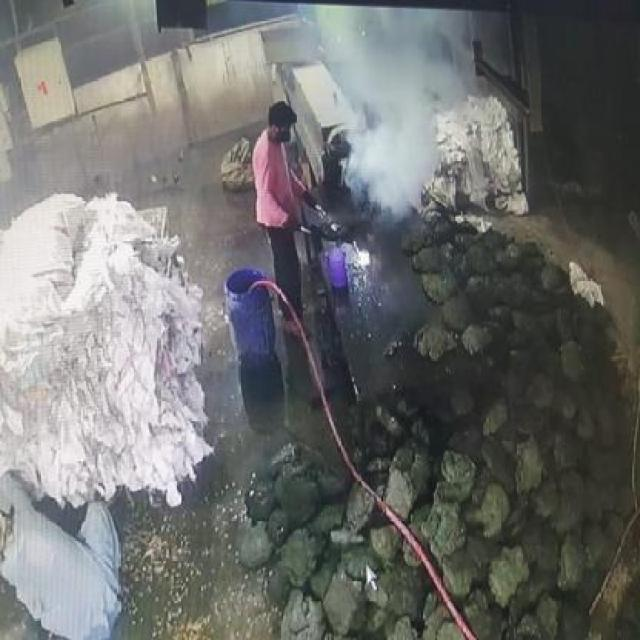fire: (304, 5, 483, 214)
